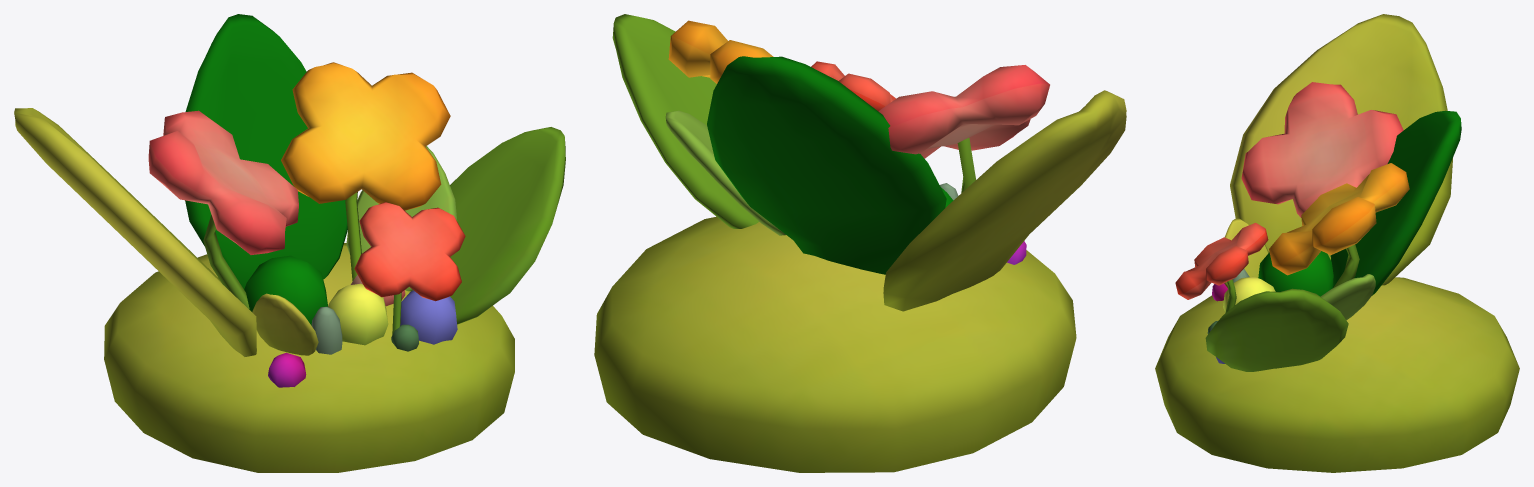
File: SM_Flowers_01.fbx
3 views of the same model, side by side, from view 1: azimuth 30°, elevation 25°; view 2: azimuth 150°, elevation 25°; view 3: azimuth 270°, elevation 25° (orthographic). The views are drawn at different scales.
Parts seen in each view (by area): view 1: SM_Flowers_01; view 2: SM_Flowers_01; view 3: SM_Flowers_01.
Part boxes in pixels (left/top/right/bottom): SM_Flowers_01: left=14, top=14, right=565, bottom=472; SM_Flowers_01: left=594, top=14, right=1126, bottom=472; SM_Flowers_01: left=1155, top=14, right=1519, bottom=472.
Size of the model in its own units: 485 by 315 by 365.
